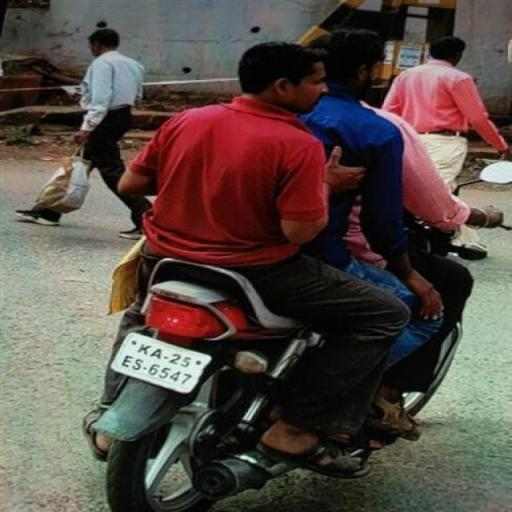tripple riding: (119, 26, 509, 266)
